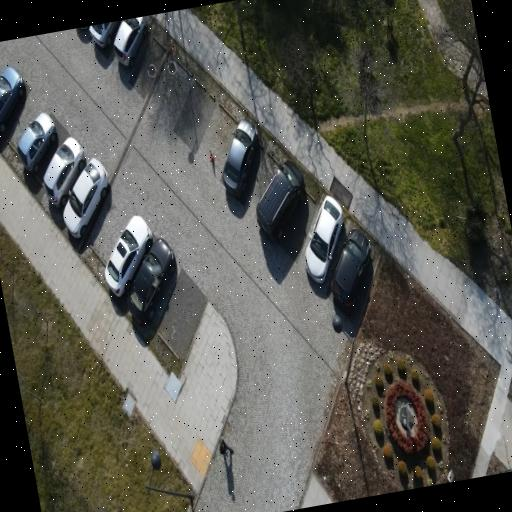harvester: (256, 161, 305, 239), (128, 239, 174, 322), (105, 216, 152, 295), (64, 159, 109, 237), (306, 196, 343, 283), (331, 229, 371, 307), (44, 137, 86, 207), (223, 119, 258, 197), (17, 113, 57, 173), (0, 67, 26, 133), (114, 16, 147, 67), (90, 21, 119, 47), (80, 26, 89, 29)
person: (220, 439, 233, 454)
